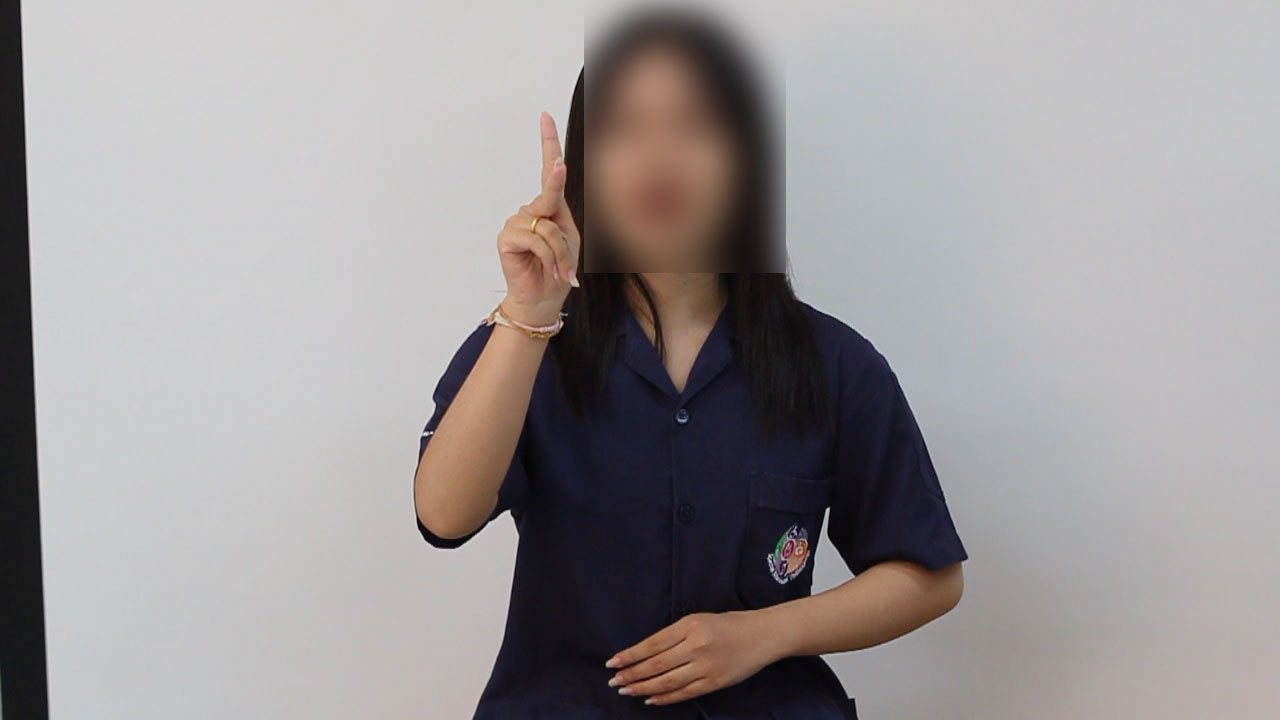ko: (450, 108, 615, 345)
